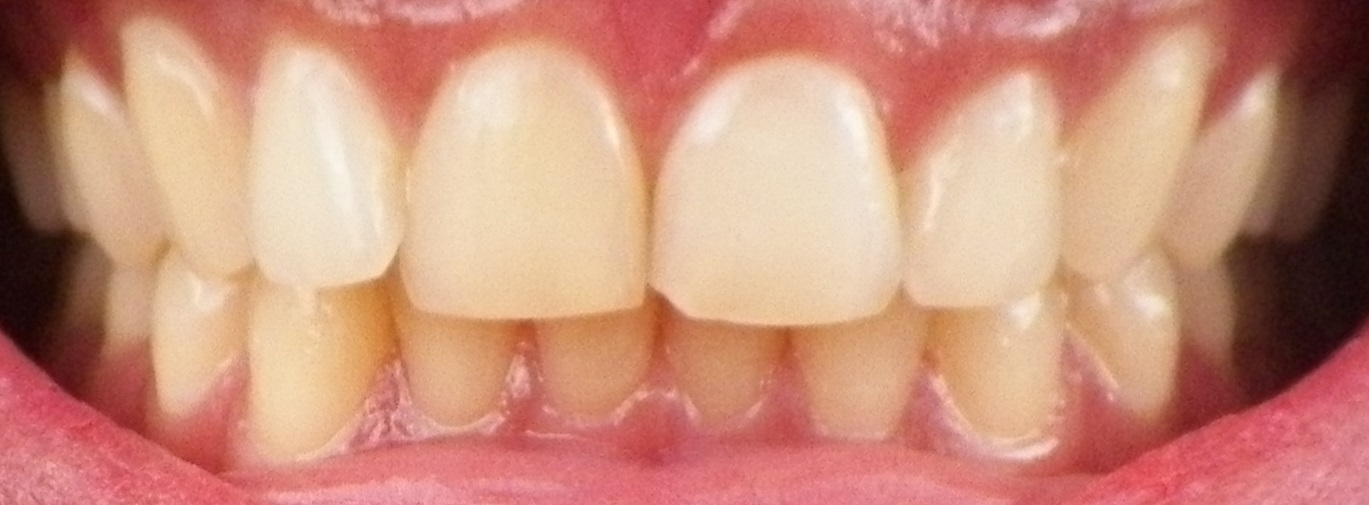boca: (10, 17, 1351, 441)
